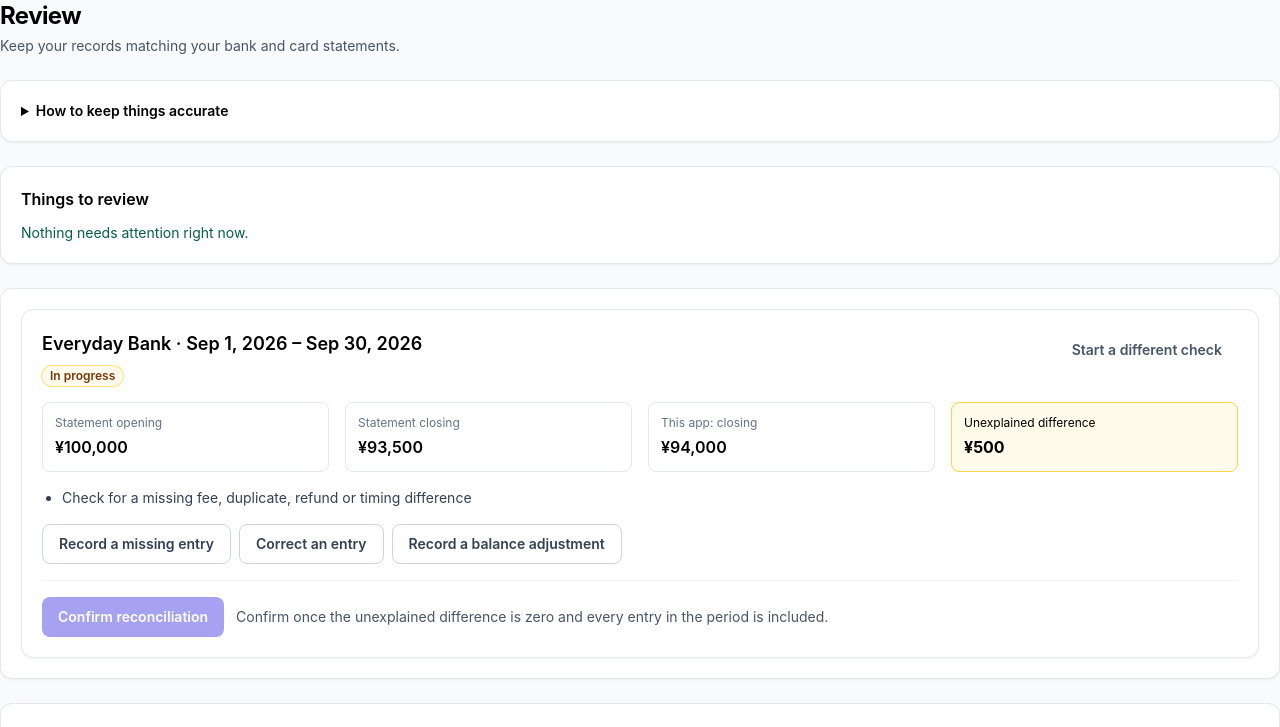
Scenario: shows a missing fee as a difference and resolves it once the fee is recorded and included
Expected: the text "¥500" is shown, [964,437,1005,457]
Expected: the button "Confirm reconciliation" is disabled, [42,597,224,637]
Click the button "Record a missing entry" at [136, 544], box [42,524,231,564]
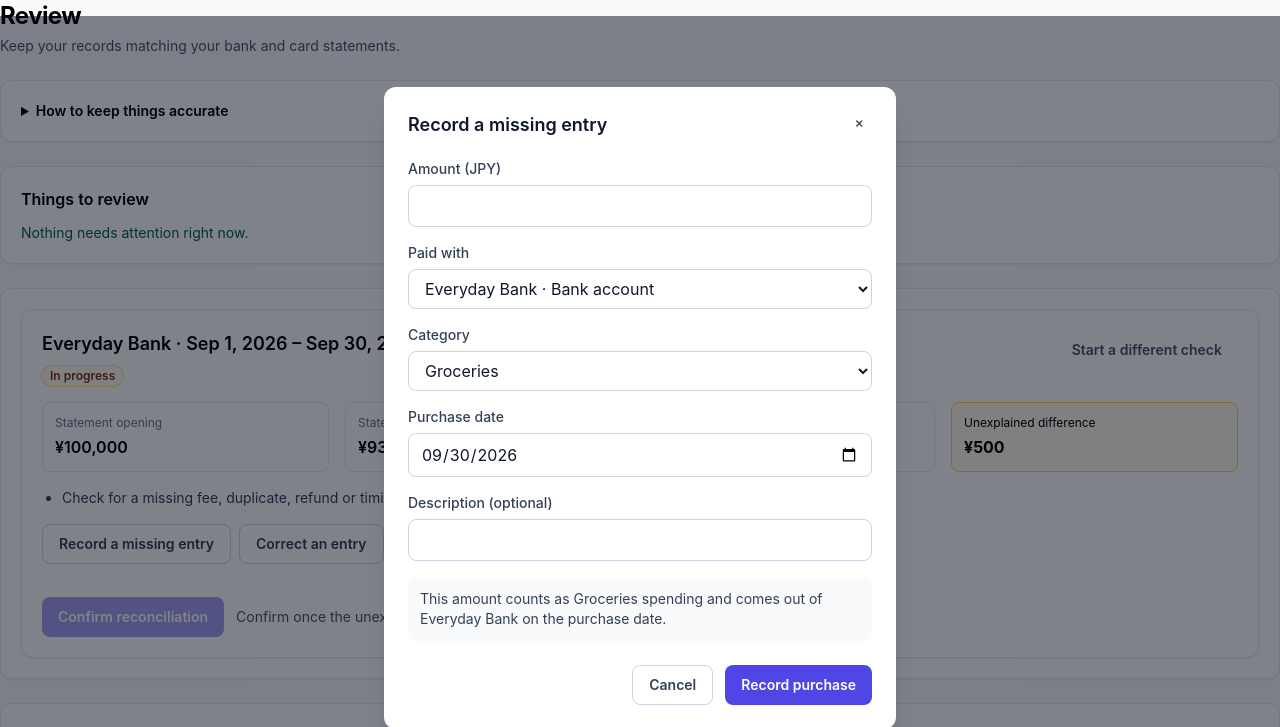
Expected: the dropdown labelled "Paid with" shows "Everyday Bank · Bank account", [408,269,872,309]
Expected: the date field labelled "Purchase date" holds "2026-09-30", [408,433,872,477]
Type "500" into the field labelled "Amount (JPY)" at [640, 206], box [408,185,872,227]
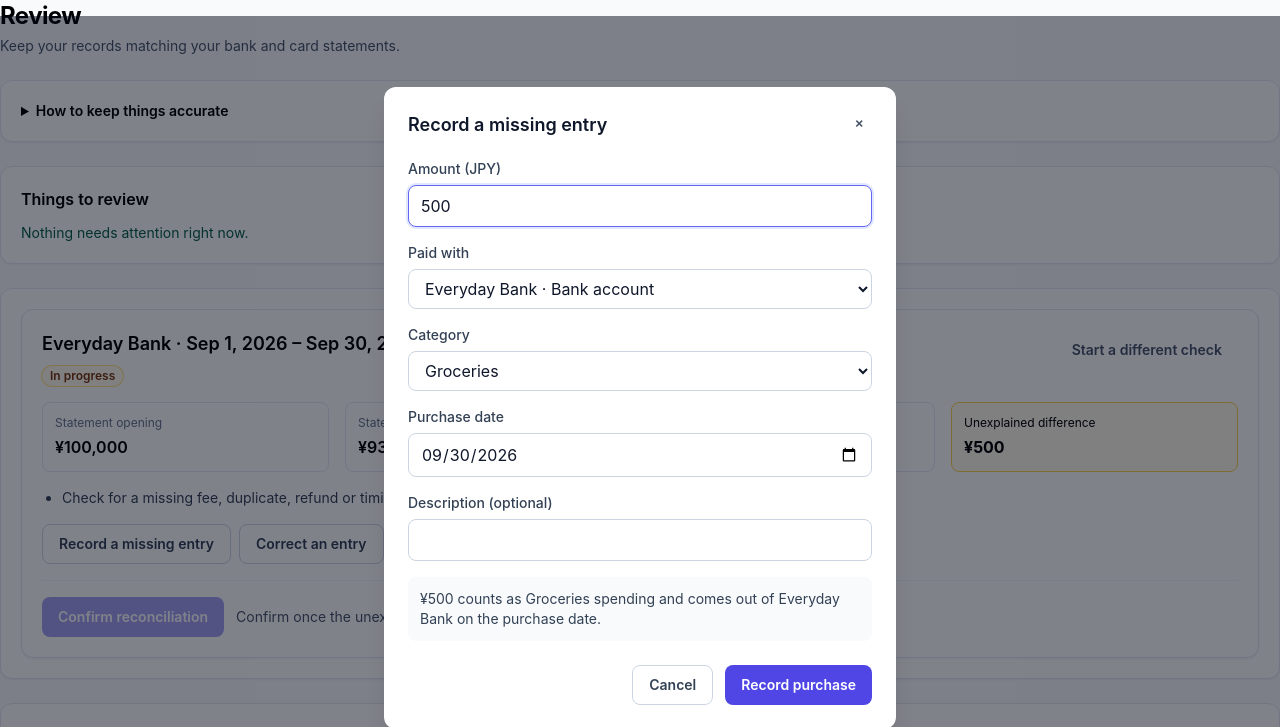
Select "Groceries" in the dropdown labelled "Category" at [640, 371], box [408,351,872,391]
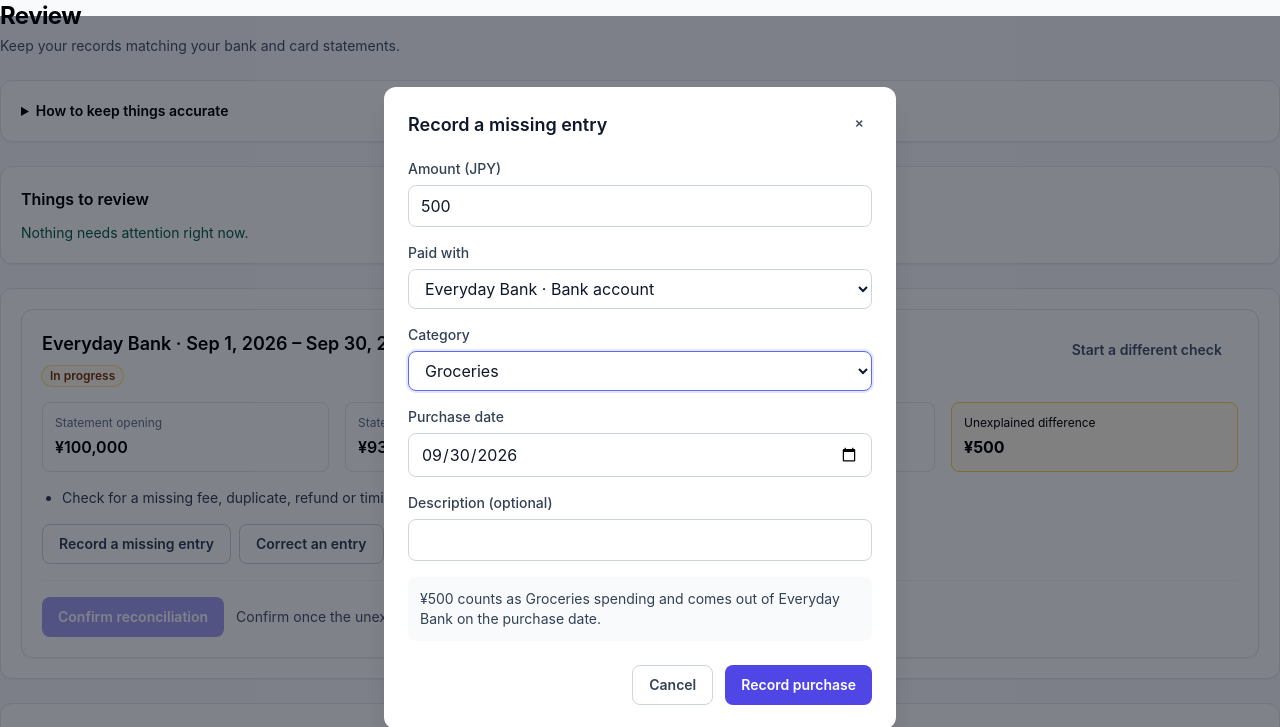
Click the button "Record purchase" at [799, 685], box [725,665,872,705]
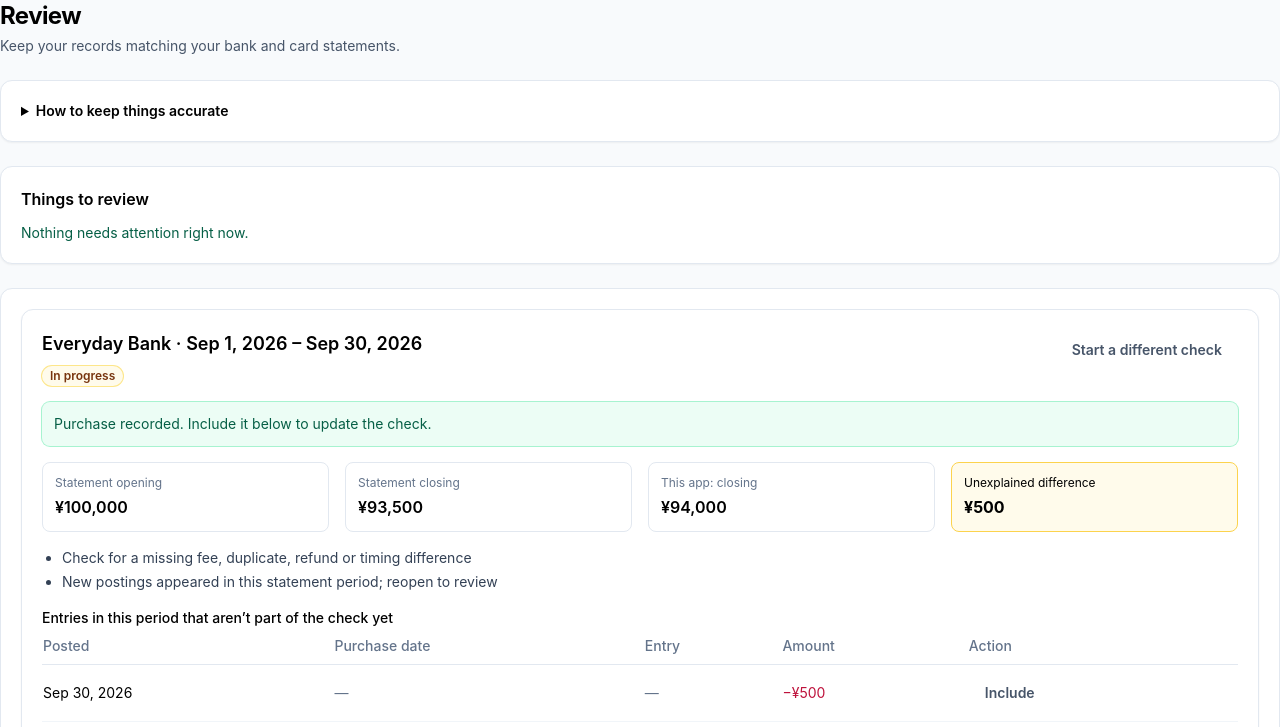
Click the button named "Include entry posted 2026-09-30" at [1010, 693], box [969,673,1051,713]
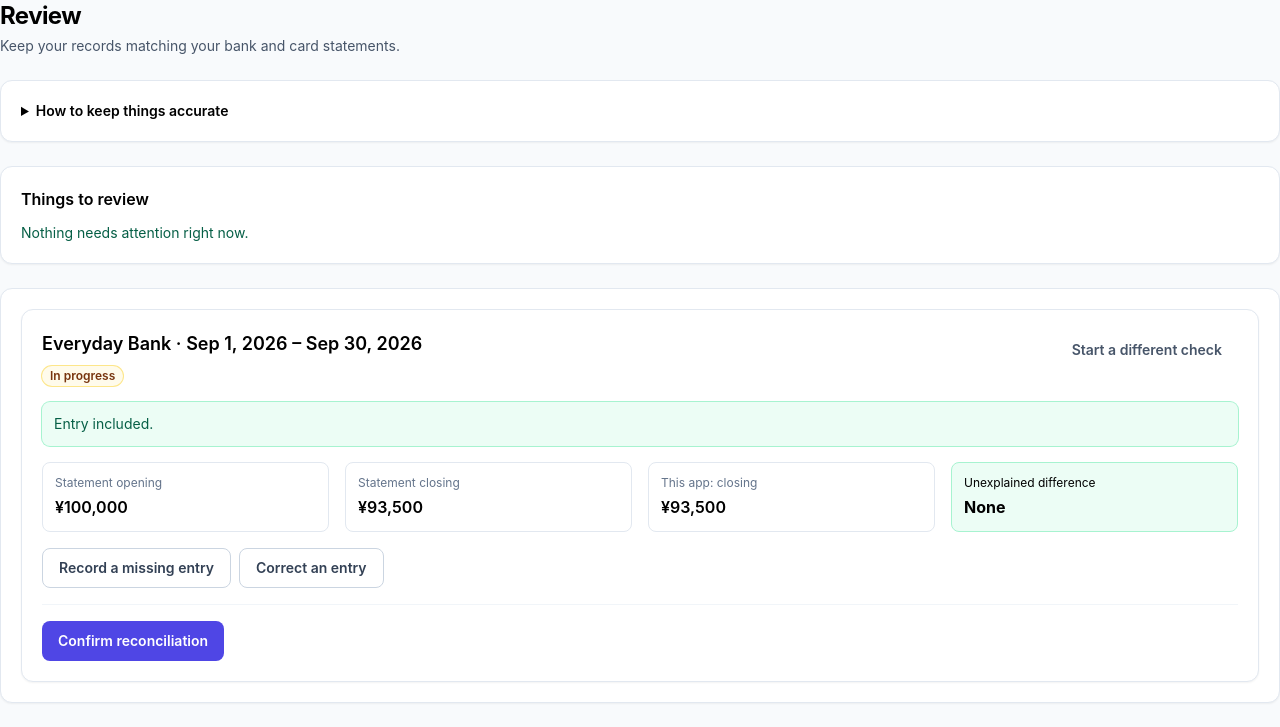
Expected: the text "None" is shown, [964,497,1006,517]
Click the button "Confirm reconciliation" at [133, 641], box [42,621,224,661]
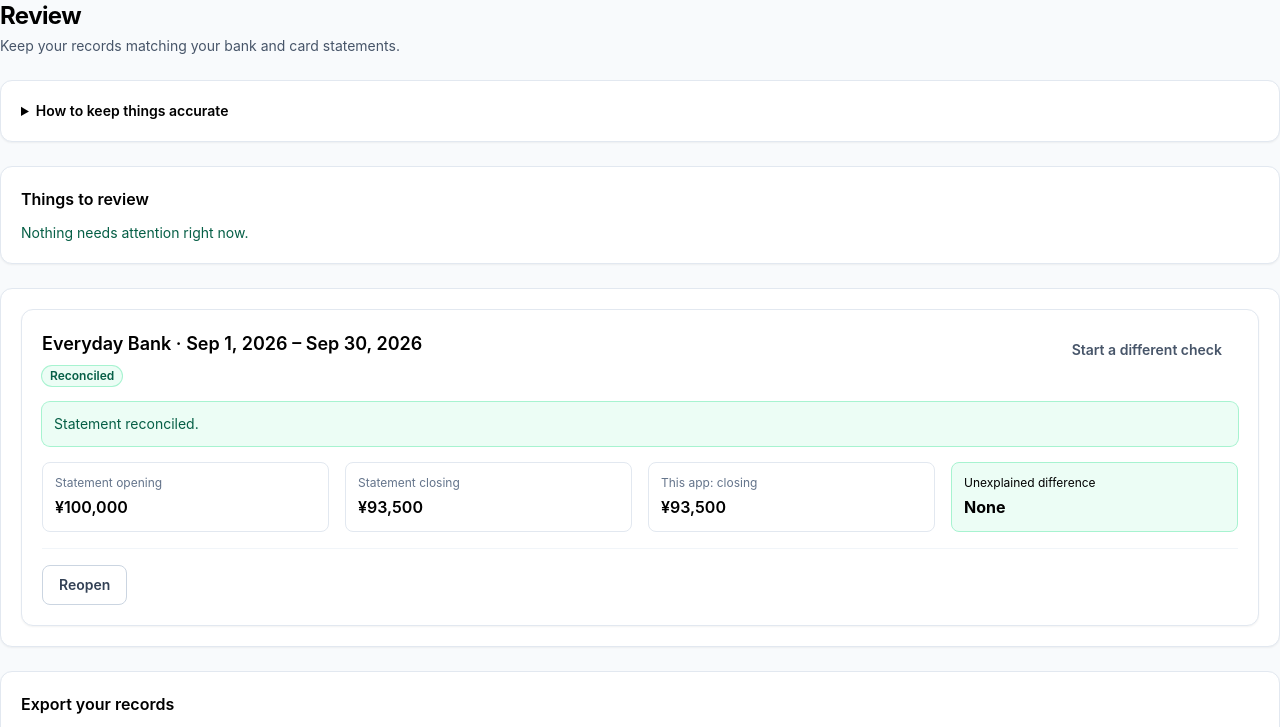
Expected: the text "Reconciled" is shown, [42,366,122,386]
